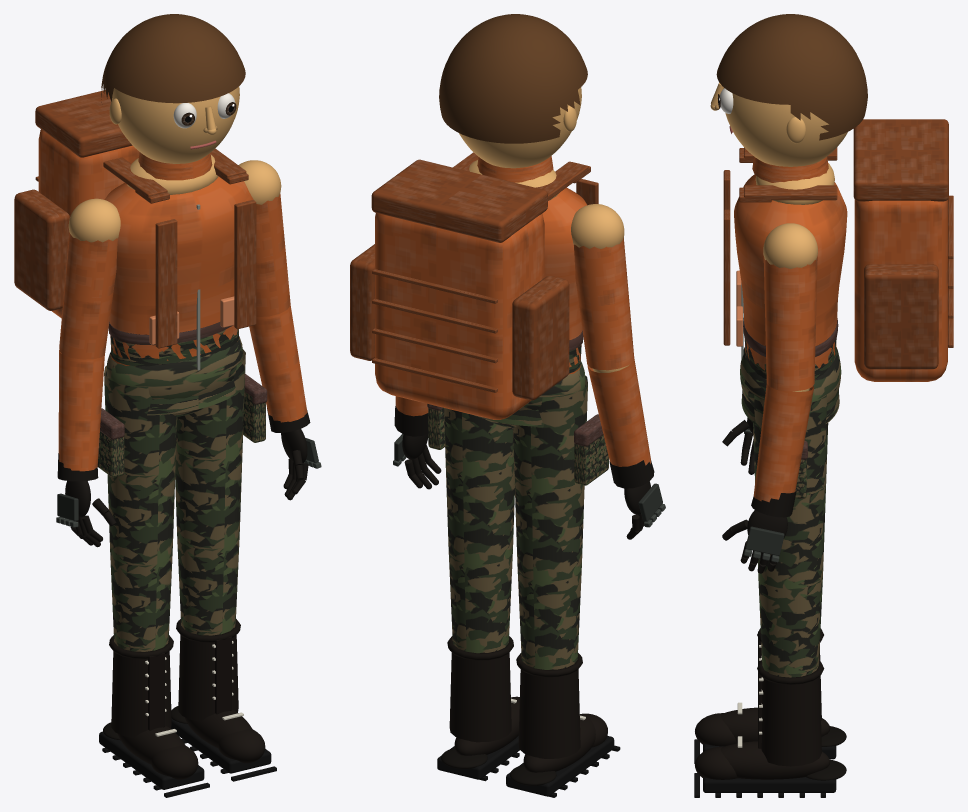
File: 01-sac-tactique.glb
3 views of the same model, side by side, from view 1: azimuth 30°, elevation 25°; view 2: azimuth 150°, elevation 25°; view 3: azimuth 270°, elevation 25° (orthographic). The views are drawn at different scales.
Size of the model in its own units: 0.6344 by 1.77 by 0.5547.
Materials: 26 (5 with a texture image).
